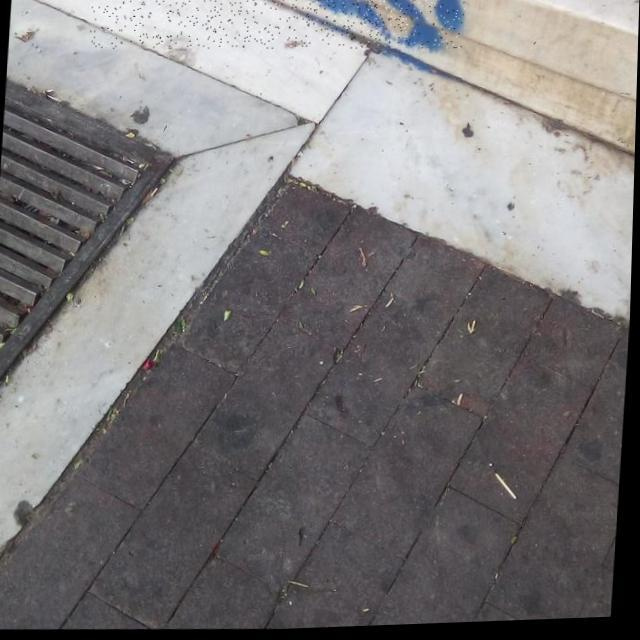-: (87, 0, 466, 62)
